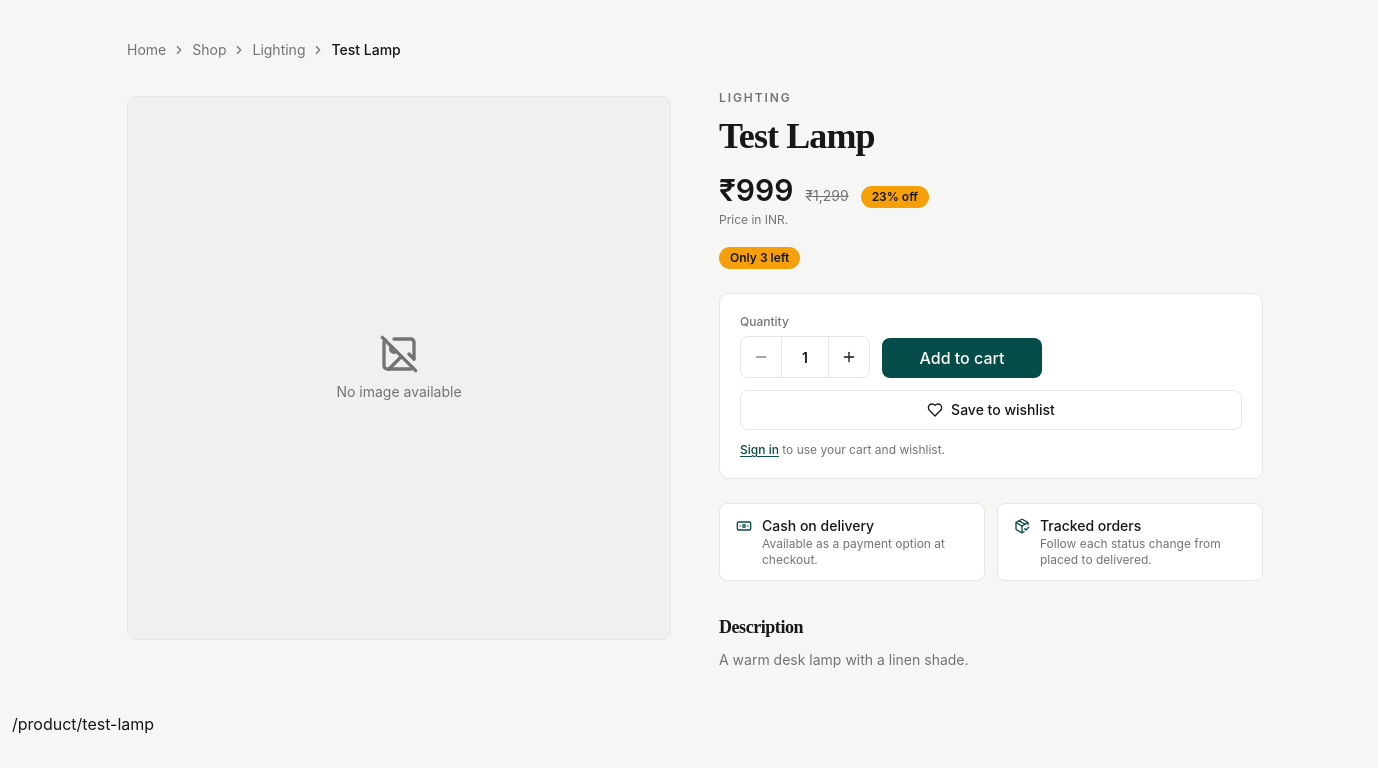
ProductPage › renders pricing, stock, and description, and asks signed-out users to sign in
The width and height of the screenshot is (1378, 768).
Expected: the heading "Test Lamp" is shown, x1=719 y1=116 x2=875 y2=156
Expected: the text "₹999" is shown, x1=719 y1=172 x2=793 y2=208
Click the button "Add to cart" at (962, 358), box x1=882 y1=338 x2=1042 y2=378
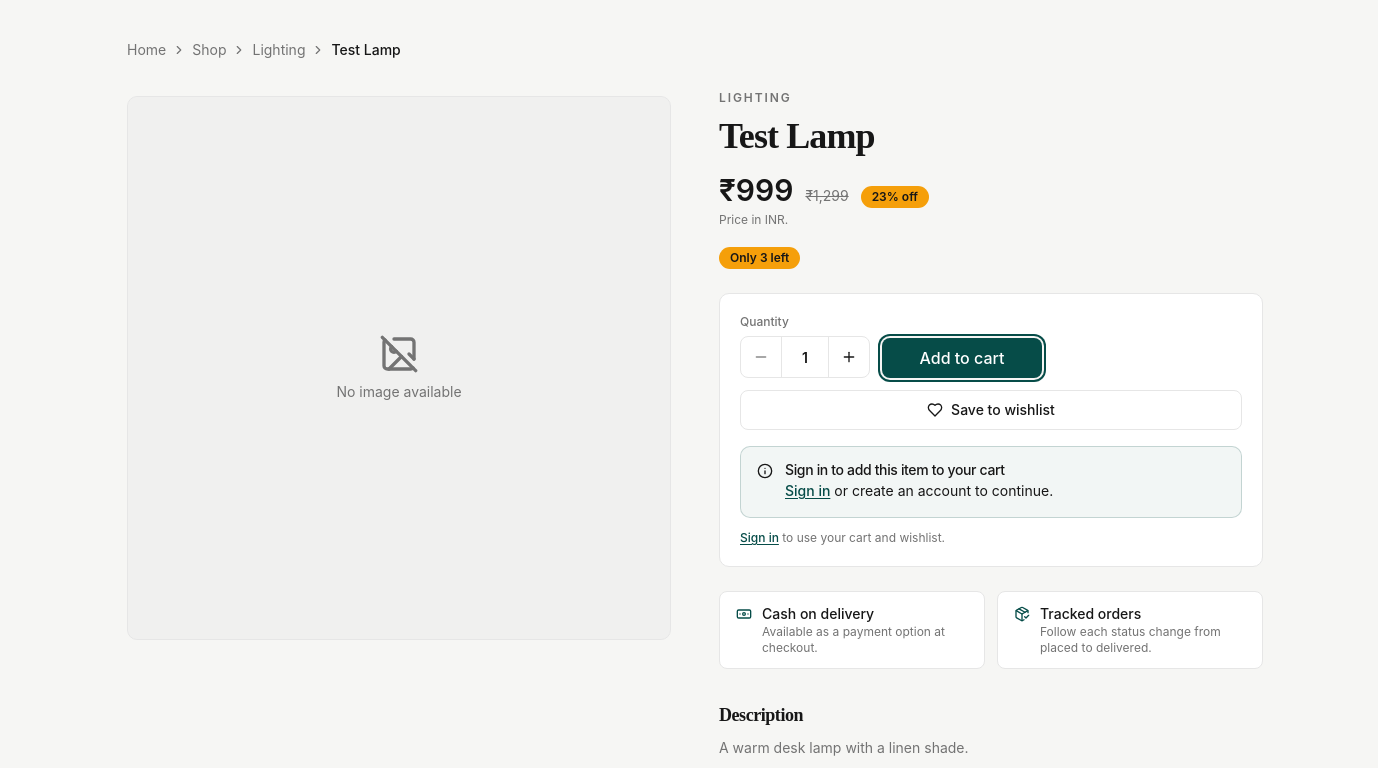
Now the heading "Sign in to add this item to your cart" is shown, box x1=785 y1=461 x2=1005 y2=478
